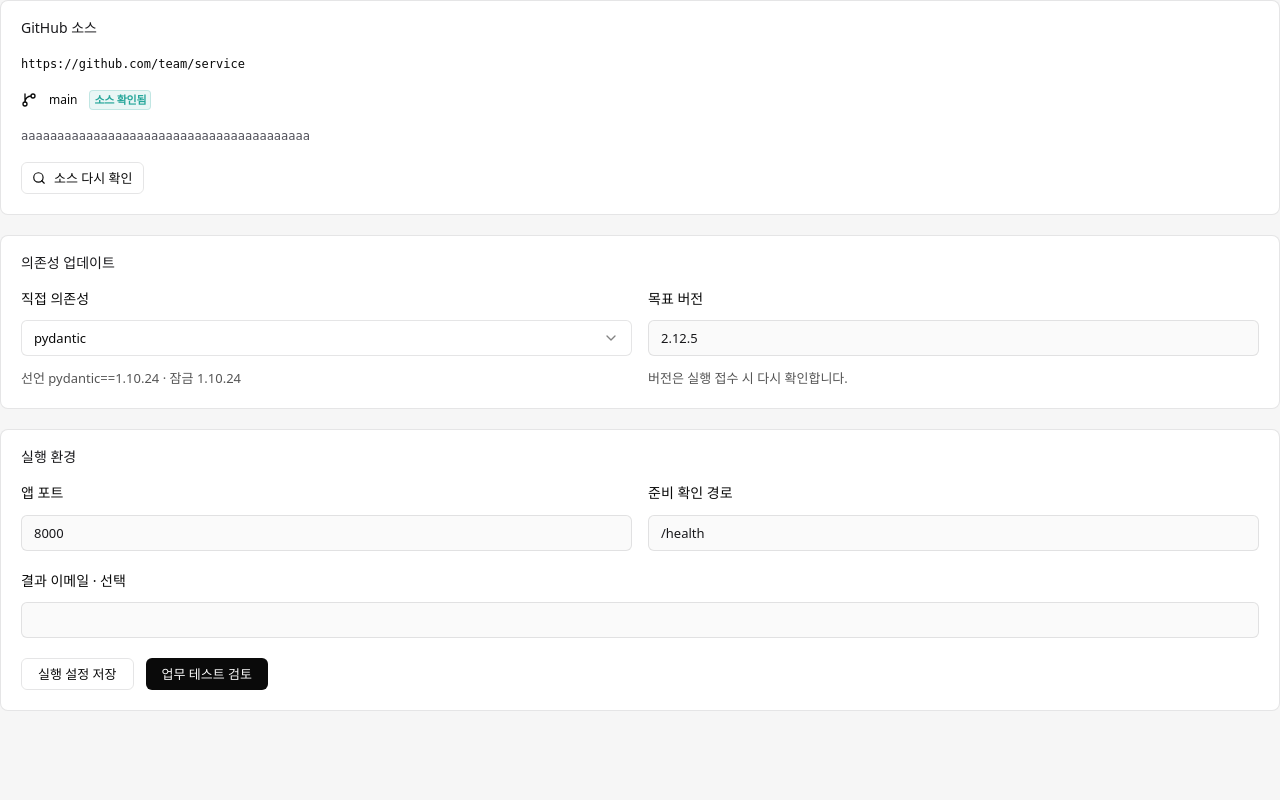
Test case: saves execution settings before continuing and stays on errors: true
The image size is (1280, 800).
Replace the text in the number field labelled "앱 포트" with "9000" at (326, 532), box x1=21 y1=514 x2=632 y2=550
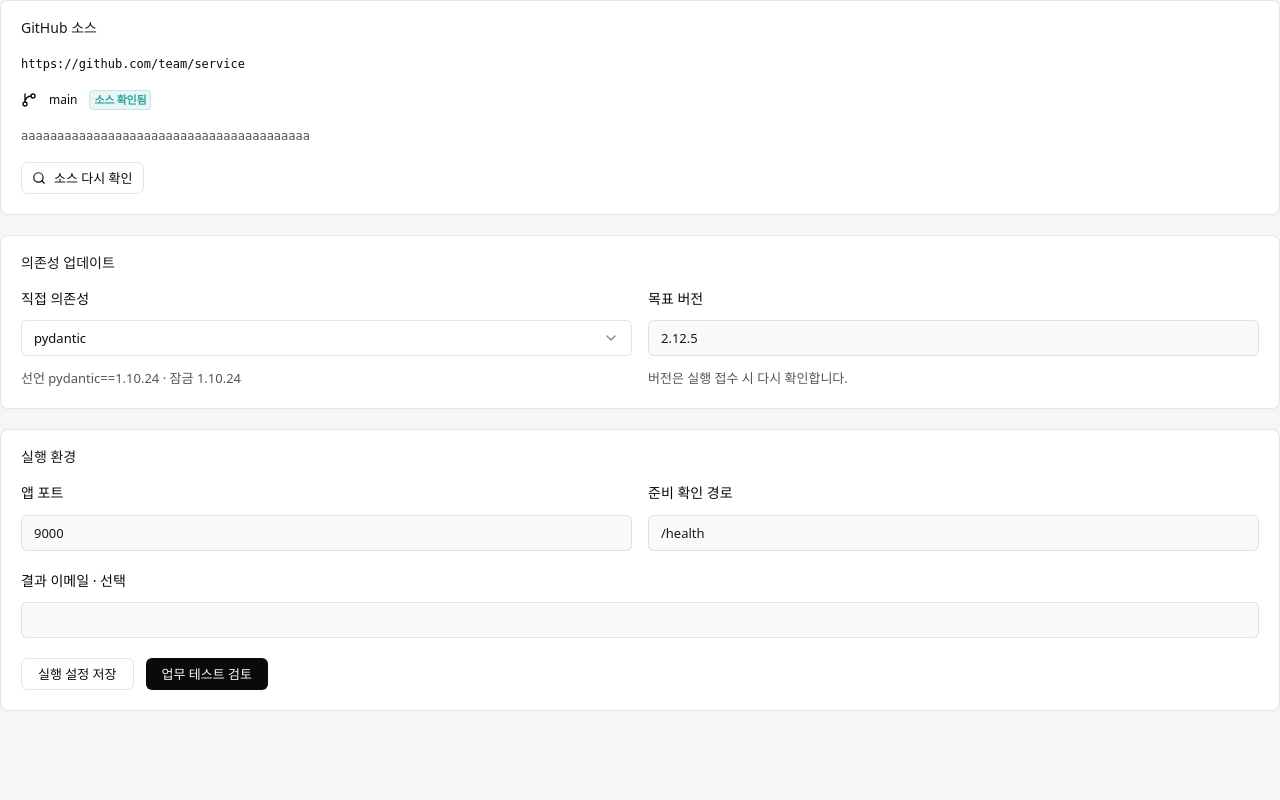
Click the button "업무 테스트 검토" at (207, 674), box x1=146 y1=658 x2=268 y2=690
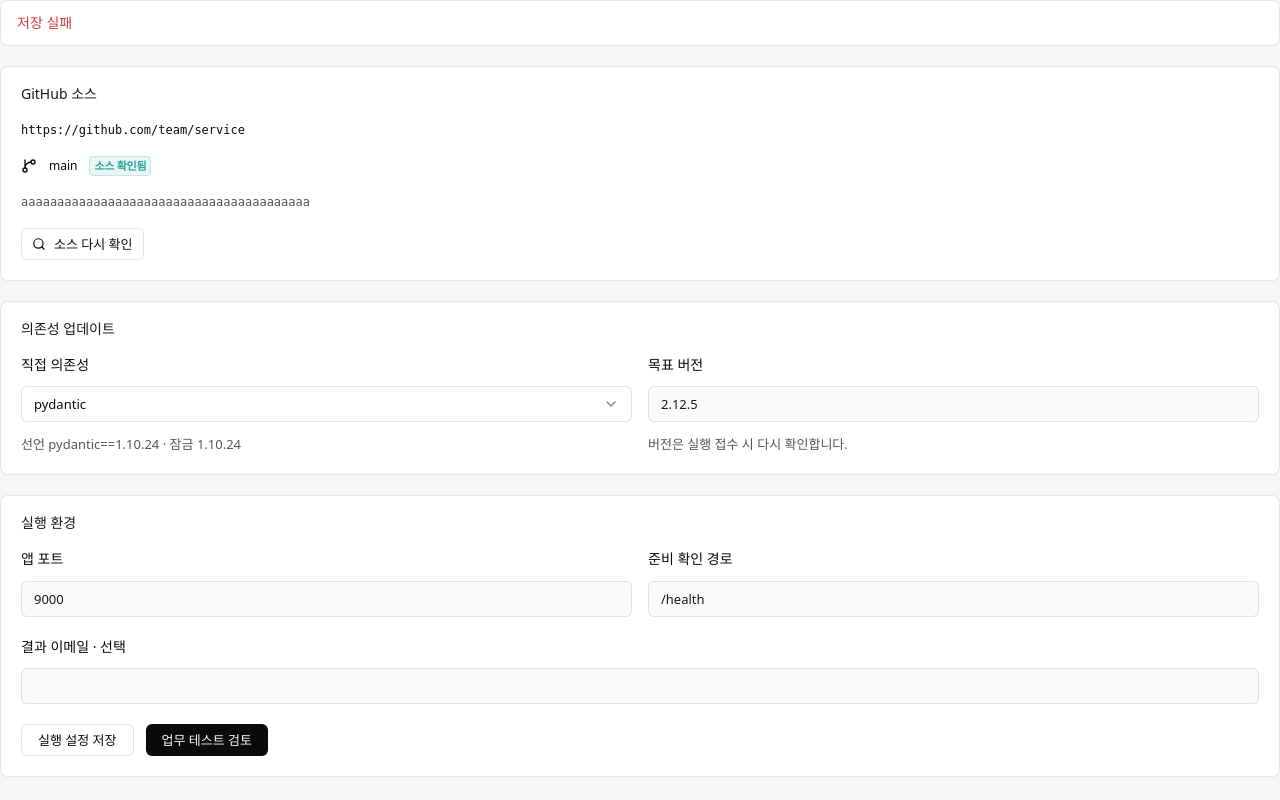
Expected: the text "저장 실패" is shown, x1=17 y1=13 x2=72 y2=32
